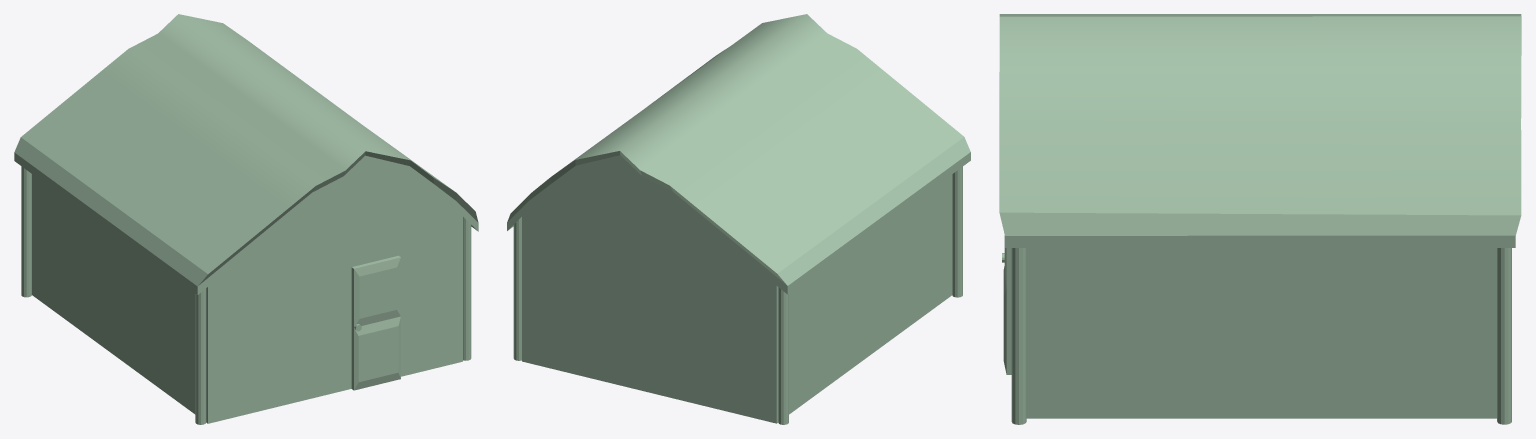
File: Cabaña2_FBX.fbx
3 views of the same model, side by side, from view 1: azimuth 30°, elevation 25°; view 2: azimuth 150°, elevation 25°; view 3: azimuth 270°, elevation 25° (orthographic). The views are drawn at different scales.
Visible parts, largest first — view 1: pCube8; view 2: pCube8; view 3: pCube8.
Part boxes in pixels (x1,y1,x2,y2): pCube8: (14,14,478,424); pCube8: (507,14,970,424); pCube8: (999,14,1521,424).
Bounding box in the file's own units: 14.88 × 12.09 × 17.19.
